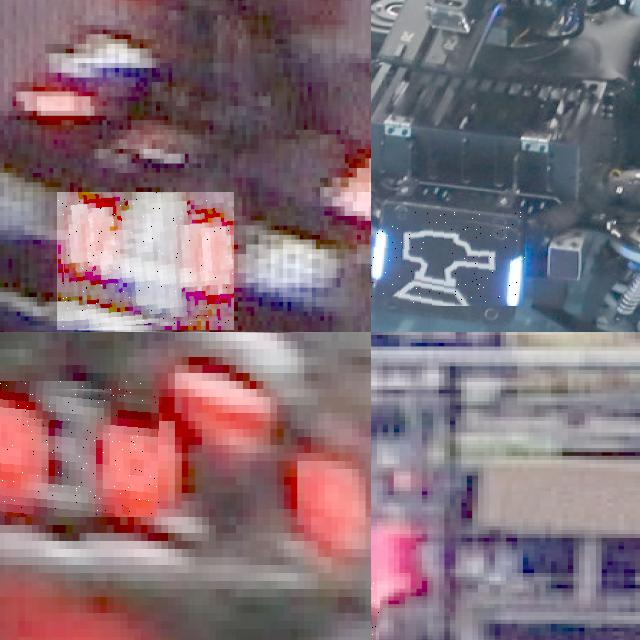Bs: (371, 211, 525, 306)
R3: (0, 381, 161, 517)
R4: (57, 192, 234, 330)
